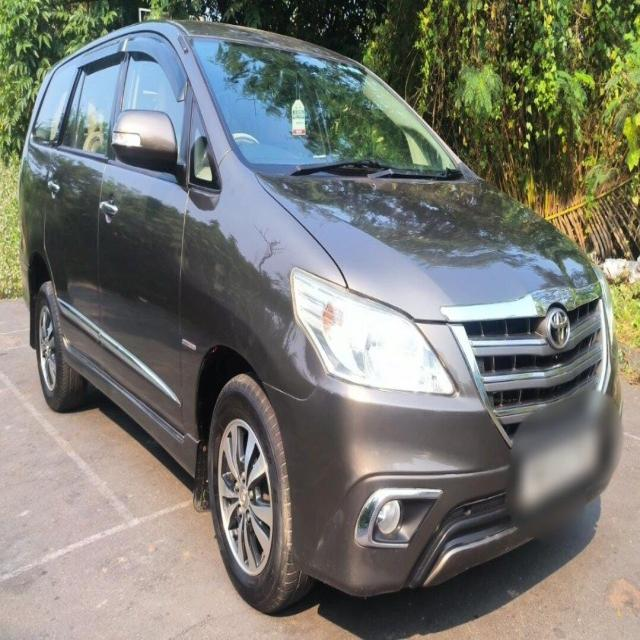light_vehicle: (16, 20, 624, 614)
